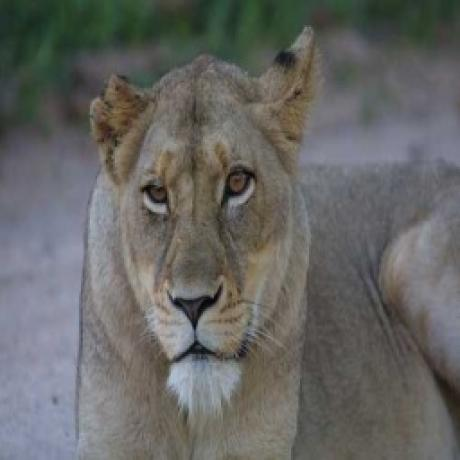Lion: (79, 27, 460, 460)
